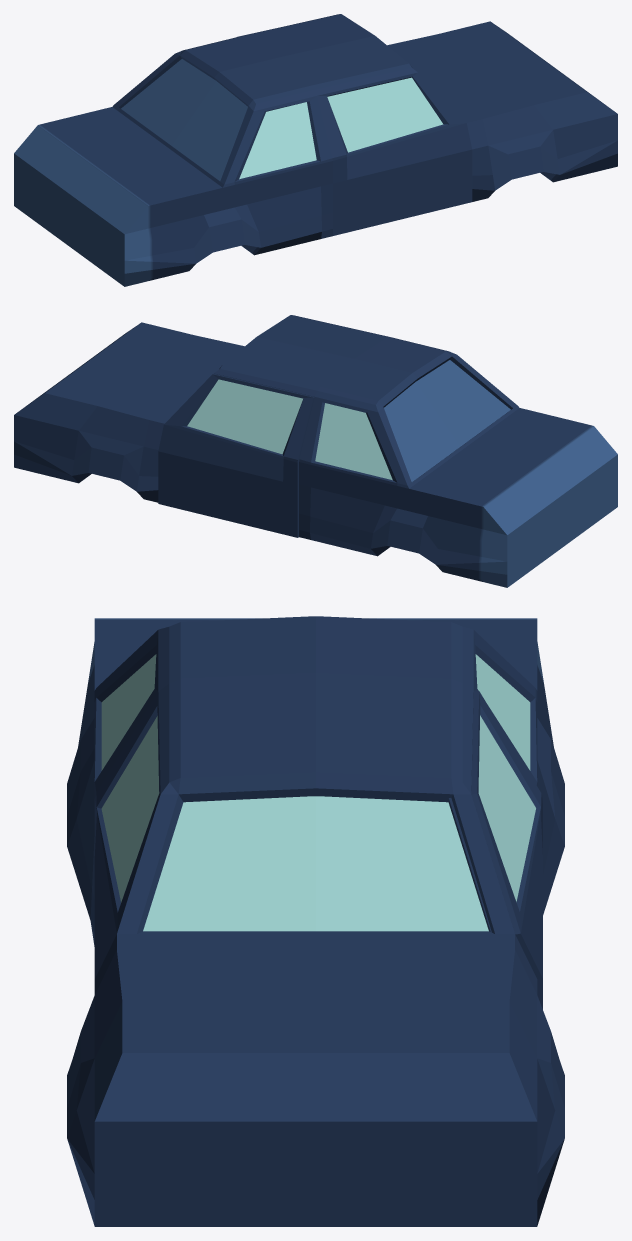
The model's file is Lupe-Car.fbx.
3 views of the same model, one above another, from view 1: azimuth 30°, elevation 25°; view 2: azimuth 150°, elevation 25°; view 3: azimuth 270°, elevation 25° (orthographic). The views are drawn at different scales.
Parts seen in each view (by area): view 1: car_rear, car_body, car_front; view 2: car_rear, car_front, car_driver_door, car_body; view 3: car_front, car_body, car_rear, car_driver_door.
Part boxes in pixels (left/top/right/bottom): car_rear: left=14, top=36, right=332, bottom=286; car_body: left=243, top=14, right=472, bottom=235; car_front: left=387, top=21, right=617, bottom=201; car_rear: left=299, top=337, right=617, bottom=587; car_front: left=14, top=322, right=244, bottom=502; car_driver_door: left=158, top=374, right=314, bottom=537; car_body: left=214, top=315, right=388, bottom=396; car_front: left=67, top=772, right=564, bottom=1226; car_body: left=94, top=673, right=522, bottom=978; car_rear: left=67, top=616, right=564, bottom=946; car_driver_door: left=471, top=691, right=542, bottom=1009.
Bounding box in the file's own units: 515 × 139 × 225.
